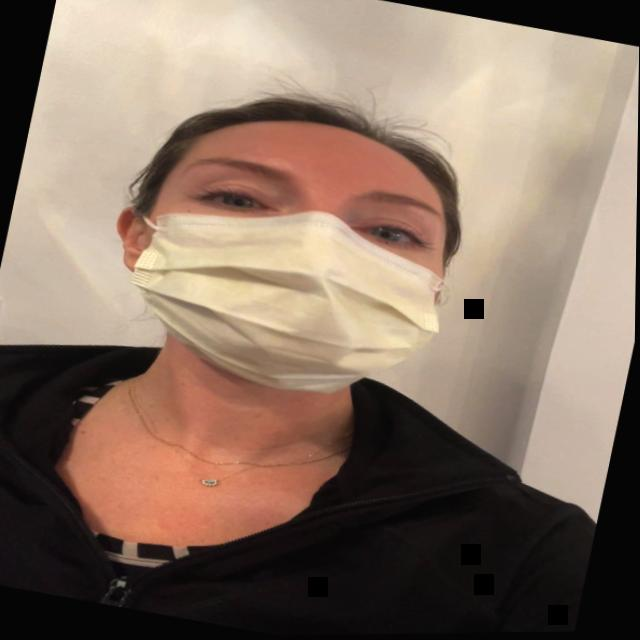Mask: (63, 59, 508, 439)
